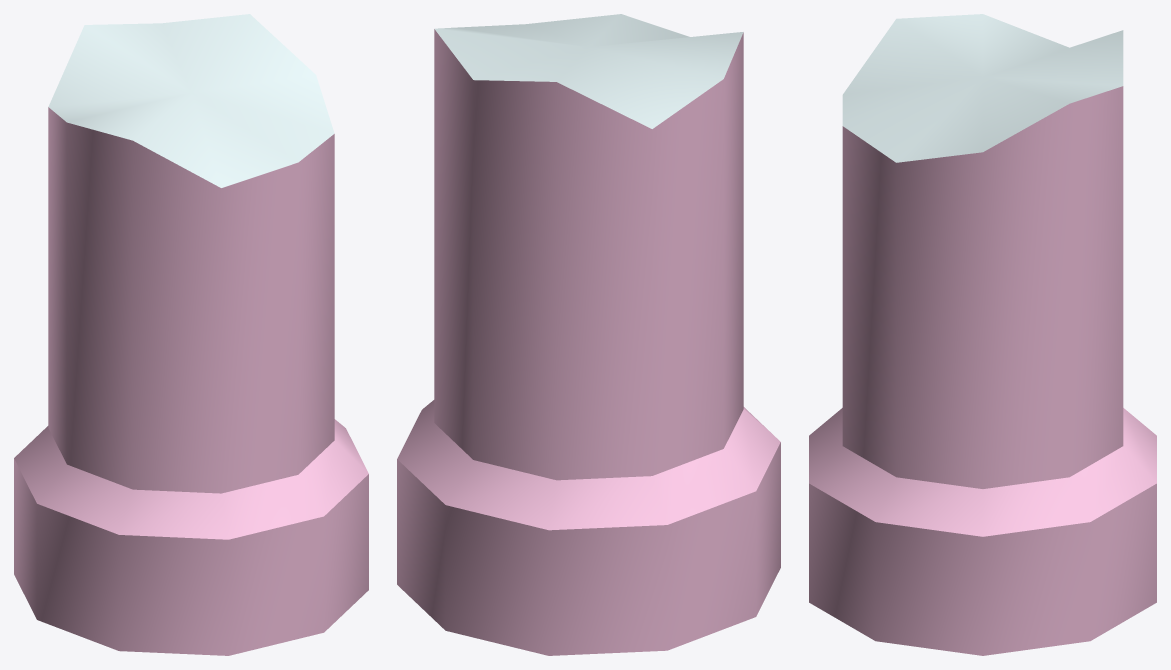
The picture shows the model from 3 angles, left to right: view 1: azimuth 30°, elevation 25°; view 2: azimuth 150°, elevation 25°; view 3: azimuth 270°, elevation 25°; orthographic projection. The views are drawn at different scales.
Visible parts, largest first — view 1: Object24; view 2: Object24; view 3: Object24.
Part boxes in pixels (bbox=[...]): Object24: bbox=[14, 14, 368, 655]; Object24: bbox=[397, 14, 780, 655]; Object24: bbox=[809, 14, 1156, 655].
Size of the model in its own units: 255 by 407 by 242.
